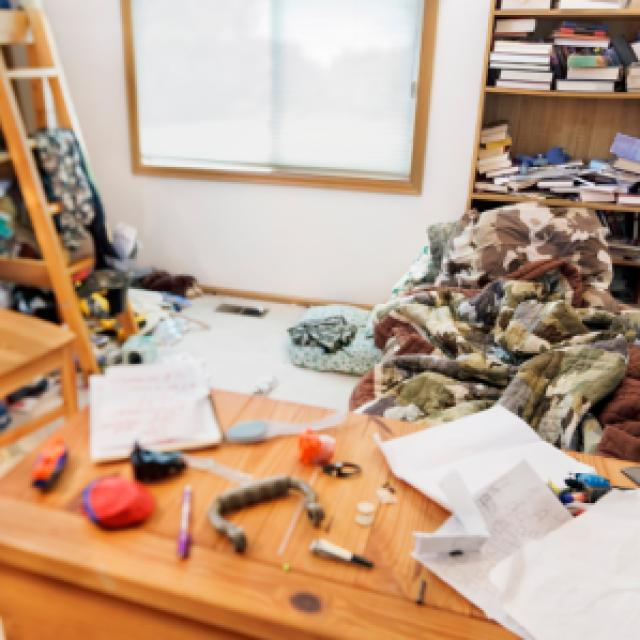scattered-items: (344, 139, 638, 640)
